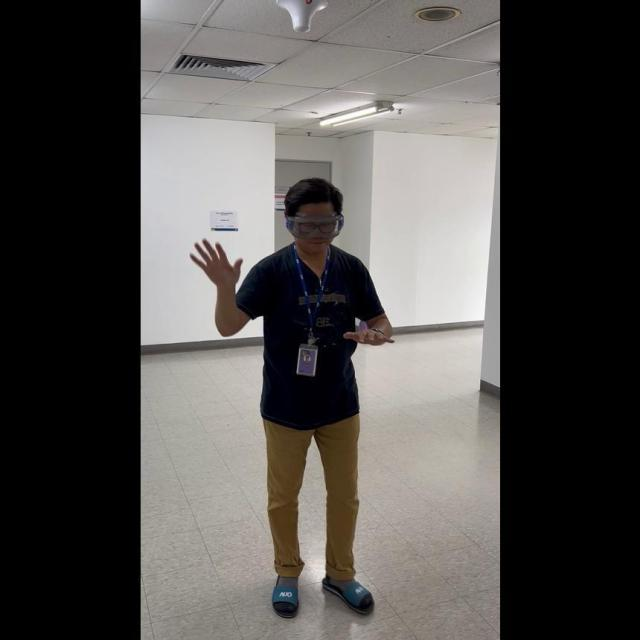bare_hand: (188, 234, 243, 289), (341, 313, 392, 349)
